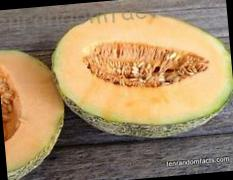Melon Ripe: (48, 2, 233, 145), (0, 41, 69, 180)
